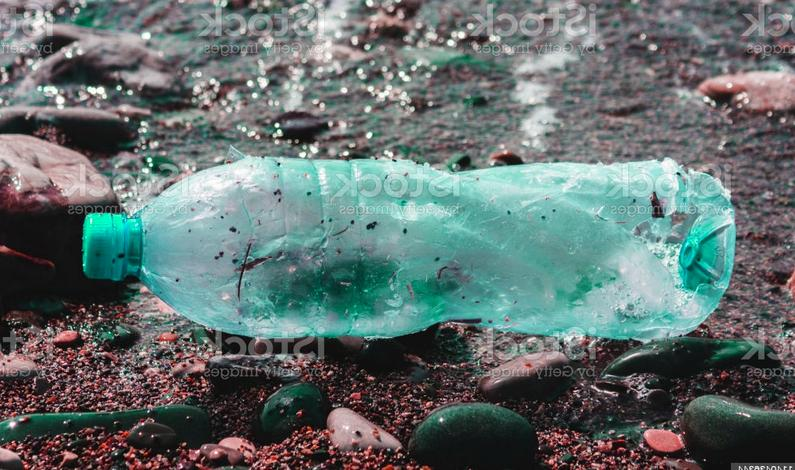Plastic: (75, 147, 738, 379)
